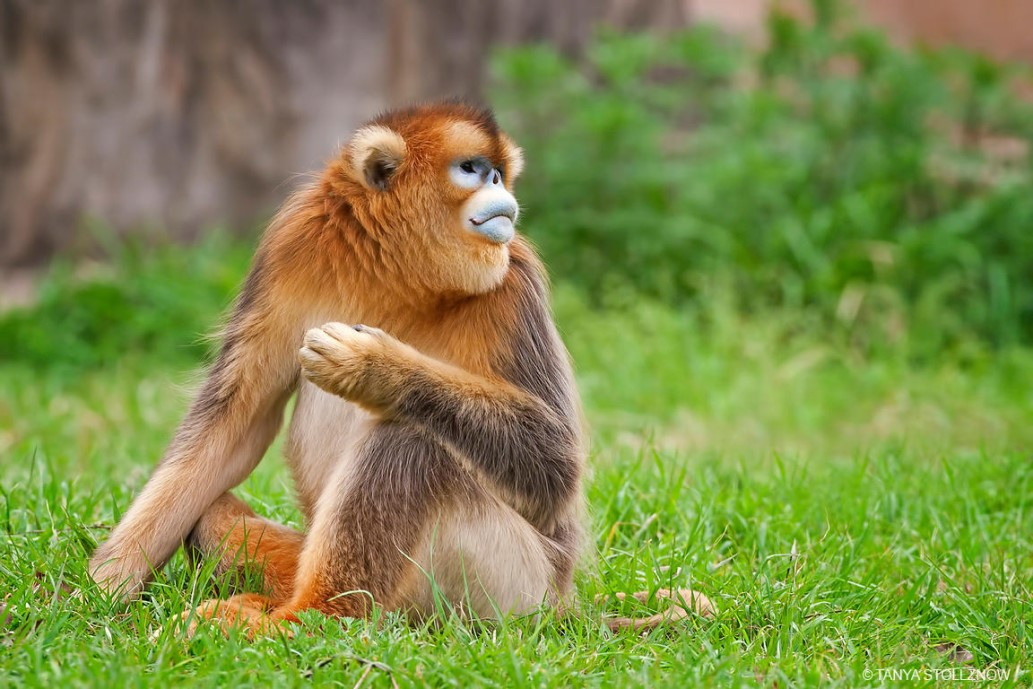GoldenSnub-Nosed: (111, 89, 655, 644)
